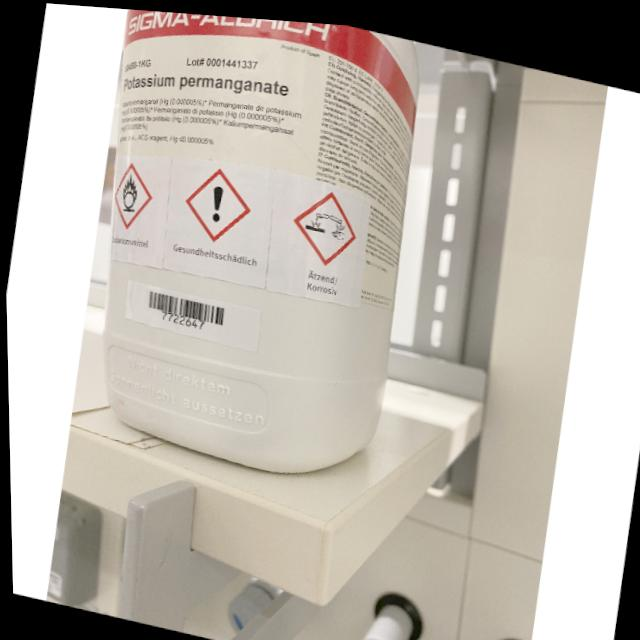corrosive: (285, 178, 362, 268)
health-ozone layer hazard: (177, 157, 256, 247)
oxidising: (107, 158, 156, 234)
